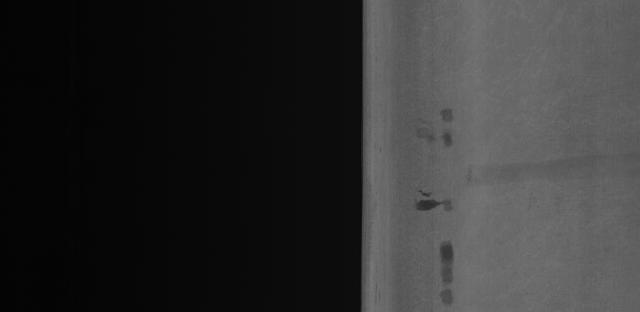oil_spot: (436, 234, 462, 309), (411, 107, 460, 146), (407, 191, 463, 222)
